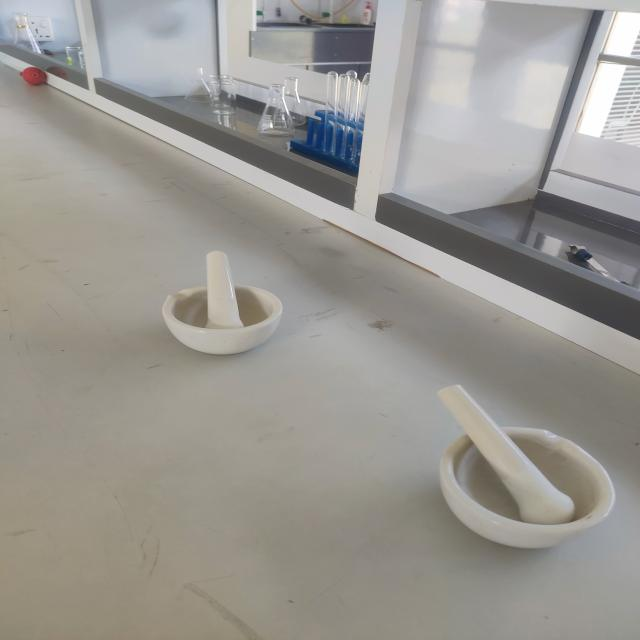Porcelain_Mortar Pestle: (423, 354, 630, 581), (143, 226, 306, 373)
